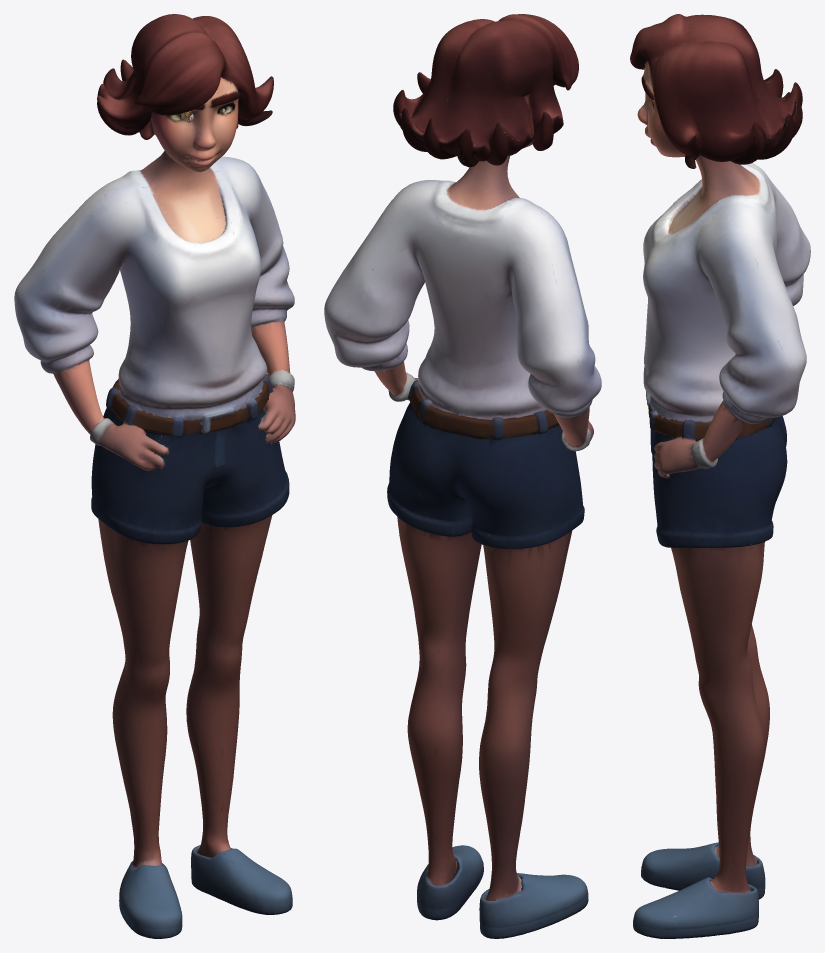
Rendered from ana_v2_eyes.glb.
3 renders of one model, left to right at view 1: azimuth 30°, elevation 25°; view 2: azimuth 150°, elevation 25°; view 3: azimuth 270°, elevation 25°, orthographic.
Visible parts, largest first — view 1: Mesh_0; view 2: Mesh_0; view 3: Mesh_0.
Part boxes in pixels (x1,y1,x2,y2): Mesh_0: (14,14,295,938); Mesh_0: (324,14,601,938); Mesh_0: (630,14,810,938).
Bounding box in the file's own units: 0.5237 × 1.72 × 0.3189.
2 materials, 2 textured.
